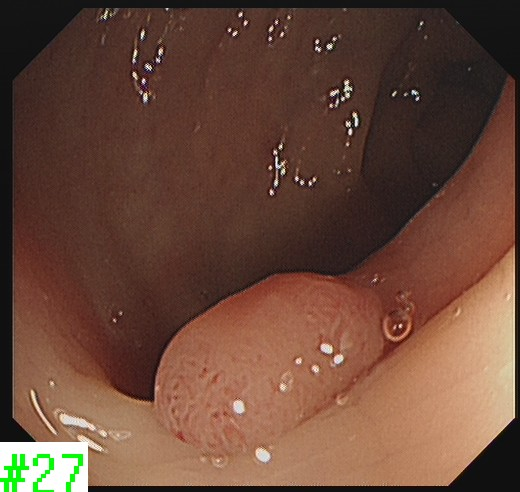adenoma: (150, 267, 389, 451)
